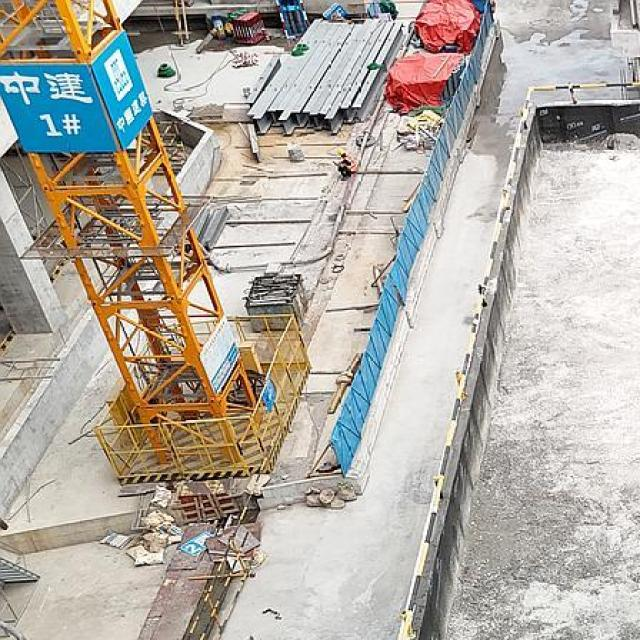edge_guardrail: (400, 83, 640, 640)
